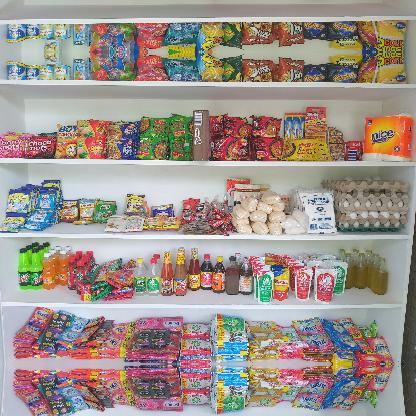Koko-Krunch: (193, 108, 211, 162)
